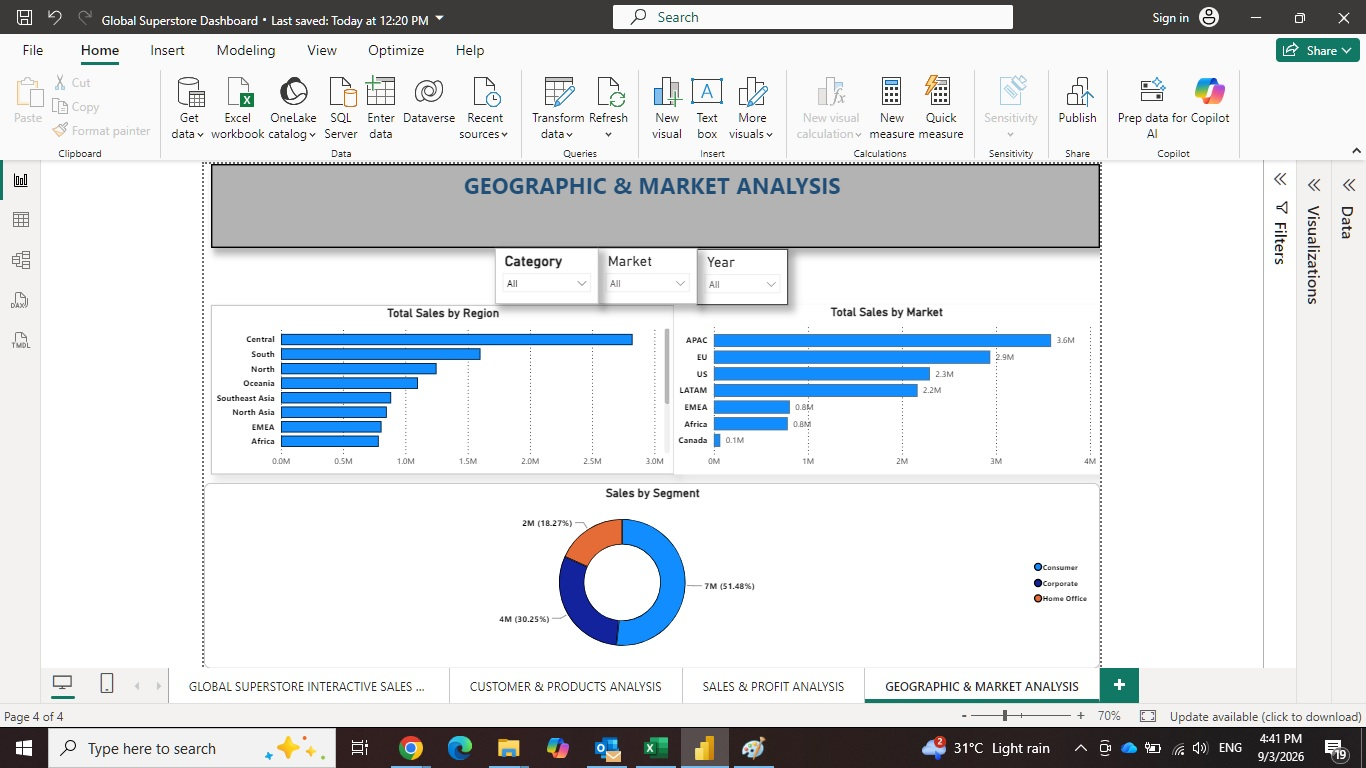

Layout of this report page (visuals, bound fields, positions):
{"tool":"powerbi","page":{"name":"GEOGRAPHIC & MARKET ANALYSIS ","canvas":[1280,720],"ordinal":3},"visuals":[{"type":"textbox","box":[10,0,1270,120],"z":0},{"type":"clusteredBarChart","title":"Total Sales by Region","fields":{"Y":["Sum(Global Superstore_Clean.Sales)"],"Category":["Global Superstore_Clean.Region"]},"box":[10,201.7,661.7,241.7],"z":1},{"type":"clusteredBarChart","fields":{"Y":["Measures 1.Total Sales"],"Category":["Global Superstore_Clean.Market"]},"box":[671.7,201.7,608.3,241.7],"z":2},{"type":"donutChart","title":"Sales by Segment","fields":{"Category":["Global Superstore_Clean.Segment"],"Y":["Sum(Global Superstore_Clean.Sales)"]},"box":[0,455,1280,265],"z":3},{"type":"slicer","fields":{"Values":["Global Superstore_Clean.Year"]},"box":[705,121.7,130,80],"z":4},{"type":"slicer","fields":{"Values":["Global Superstore_Clean.Market"]},"box":[563.3,120,141.7,80],"z":5},{"type":"slicer","fields":{"Values":["Global Superstore_Clean.Category"]},"box":[415,120,148.3,80],"z":6}]}

Visuals, with their boxes on the page's 1280x720 design canvas (x1, y1, x2, y2). These are canvas units, not pixel positions in the 1366x768 screenshot, which may show the page scaled, cropped or inside an application window:
textbox: {"left": 10, "top": 0, "right": 1280, "bottom": 120}
"Total Sales by Region" clusteredBarChart: {"left": 10, "top": 202, "right": 672, "bottom": 443}
clusteredBarChart - Measures 1.Total Sales x Global Superstore_Clean.Market: {"left": 672, "top": 202, "right": 1280, "bottom": 443}
"Sales by Segment" donutChart: {"left": 0, "top": 455, "right": 1280, "bottom": 720}
slicer - Global Superstore_Clean.Year: {"left": 705, "top": 122, "right": 835, "bottom": 202}
slicer - Global Superstore_Clean.Market: {"left": 563, "top": 120, "right": 705, "bottom": 200}
slicer - Global Superstore_Clean.Category: {"left": 415, "top": 120, "right": 563, "bottom": 200}
